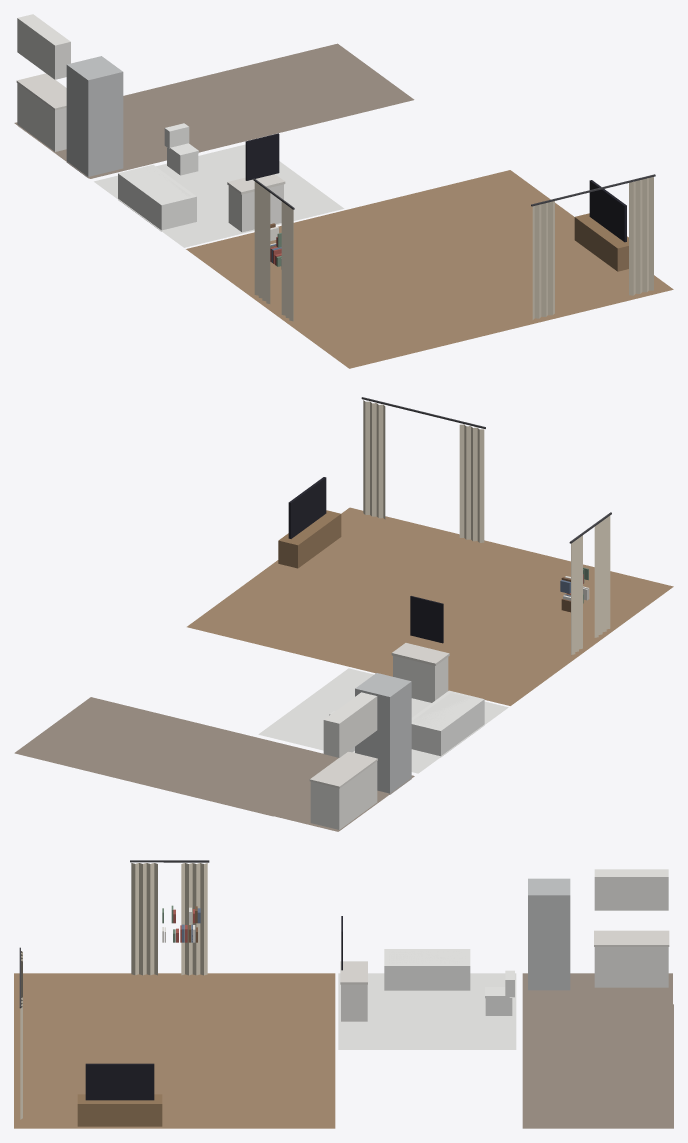
Rendered from fine-s1.glb.
3 views of the same model, one above another, from view 1: azimuth 30°, elevation 25°; view 2: azimuth 150°, elevation 25°; view 3: azimuth 270°, elevation 25° (orthographic).
Visible parts, largest first — view 1: soft-s1, fridge.000, bathtub.000, vanity.000, tv-console.001, counter-run.000, kitchen-upper.000, toilet.000; view 2: soft-s1, fridge.000, counter-run.000, vanity.000, tv-console.001, bathtub.000, kitchen-upper.000; view 3: soft-s1, tv-console.001, fridge.000, counter-run.000, bathtub.000, kitchen-upper.000, vanity.000, toilet.000.
Boxes of the visible parts, x1,y1,x2,y2 form: soft-s1: (14, 43, 673, 368); fridge.000: (66, 56, 123, 178); bathtub.000: (118, 164, 196, 231); vanity.000: (227, 133, 285, 232); tv-console.001: (574, 180, 628, 271); counter-run.000: (16, 73, 66, 151); kitchen-upper.000: (17, 14, 70, 79); toilet.000: (164, 123, 198, 175); soft-s1: (14, 397, 673, 831); fridge.000: (355, 673, 411, 794); counter-run.000: (309, 751, 377, 830); vanity.000: (391, 596, 449, 702); tv-console.001: (278, 477, 341, 568); bathtub.000: (411, 690, 484, 756); kitchen-upper.000: (323, 692, 377, 757); soft-s1: (14, 860, 673, 1128); tv-console.001: (77, 1063, 162, 1126); fridge.000: (528, 878, 570, 990); counter-run.000: (594, 930, 669, 987); bathtub.000: (384, 949, 470, 990); kitchen-upper.000: (594, 869, 668, 910); vanity.000: (340, 916, 367, 1021); toilet.000: (485, 970, 514, 1015).
Size of the model in its own units: 6.94 by 2.41 by 12.45.
